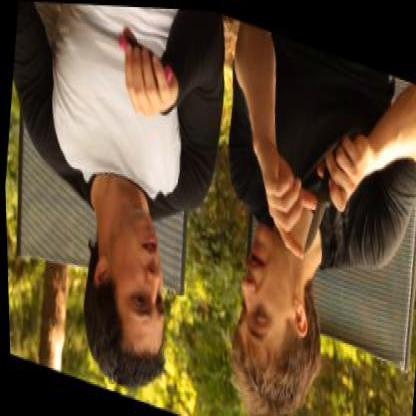knife: (294, 141, 346, 275)
